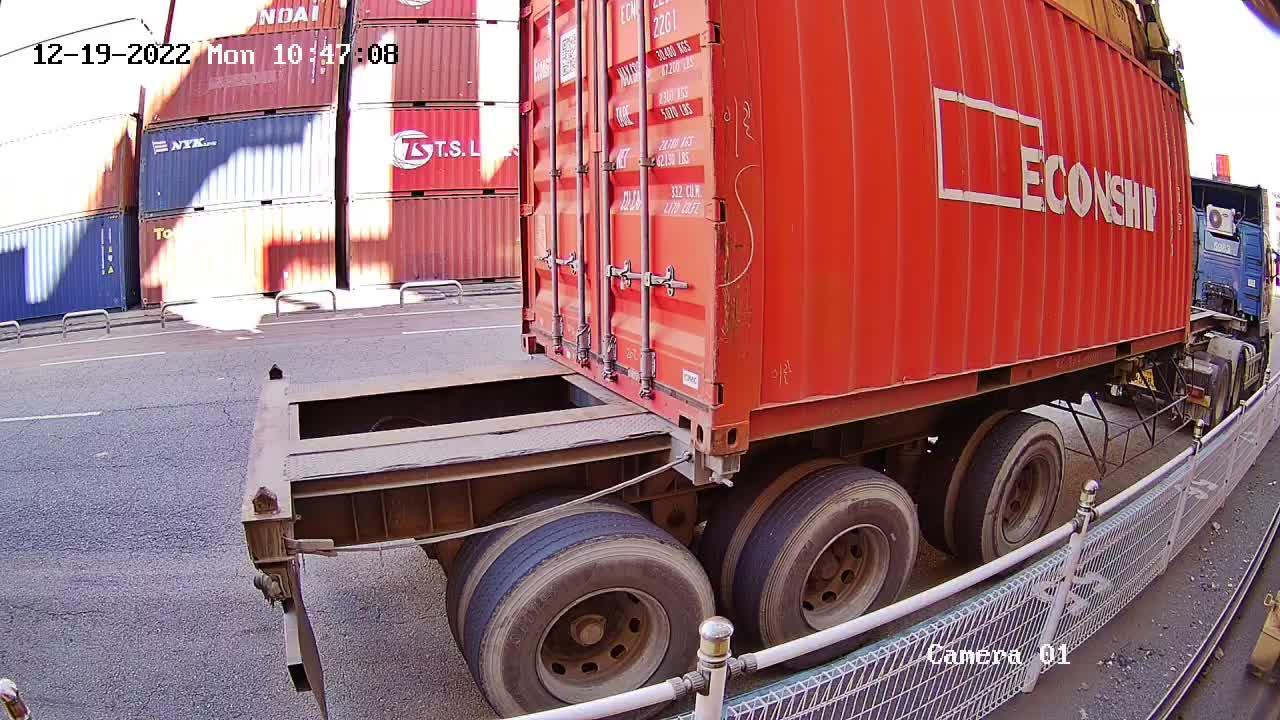Chassis: (519, 353, 708, 487)
Cone: (701, 453, 740, 482)
Hole_L: (710, 368, 785, 451), (522, 312, 555, 361)
Hole_R: (665, 367, 713, 449)
Tire: (475, 538, 714, 718), (757, 482, 916, 643), (983, 425, 1065, 557)
